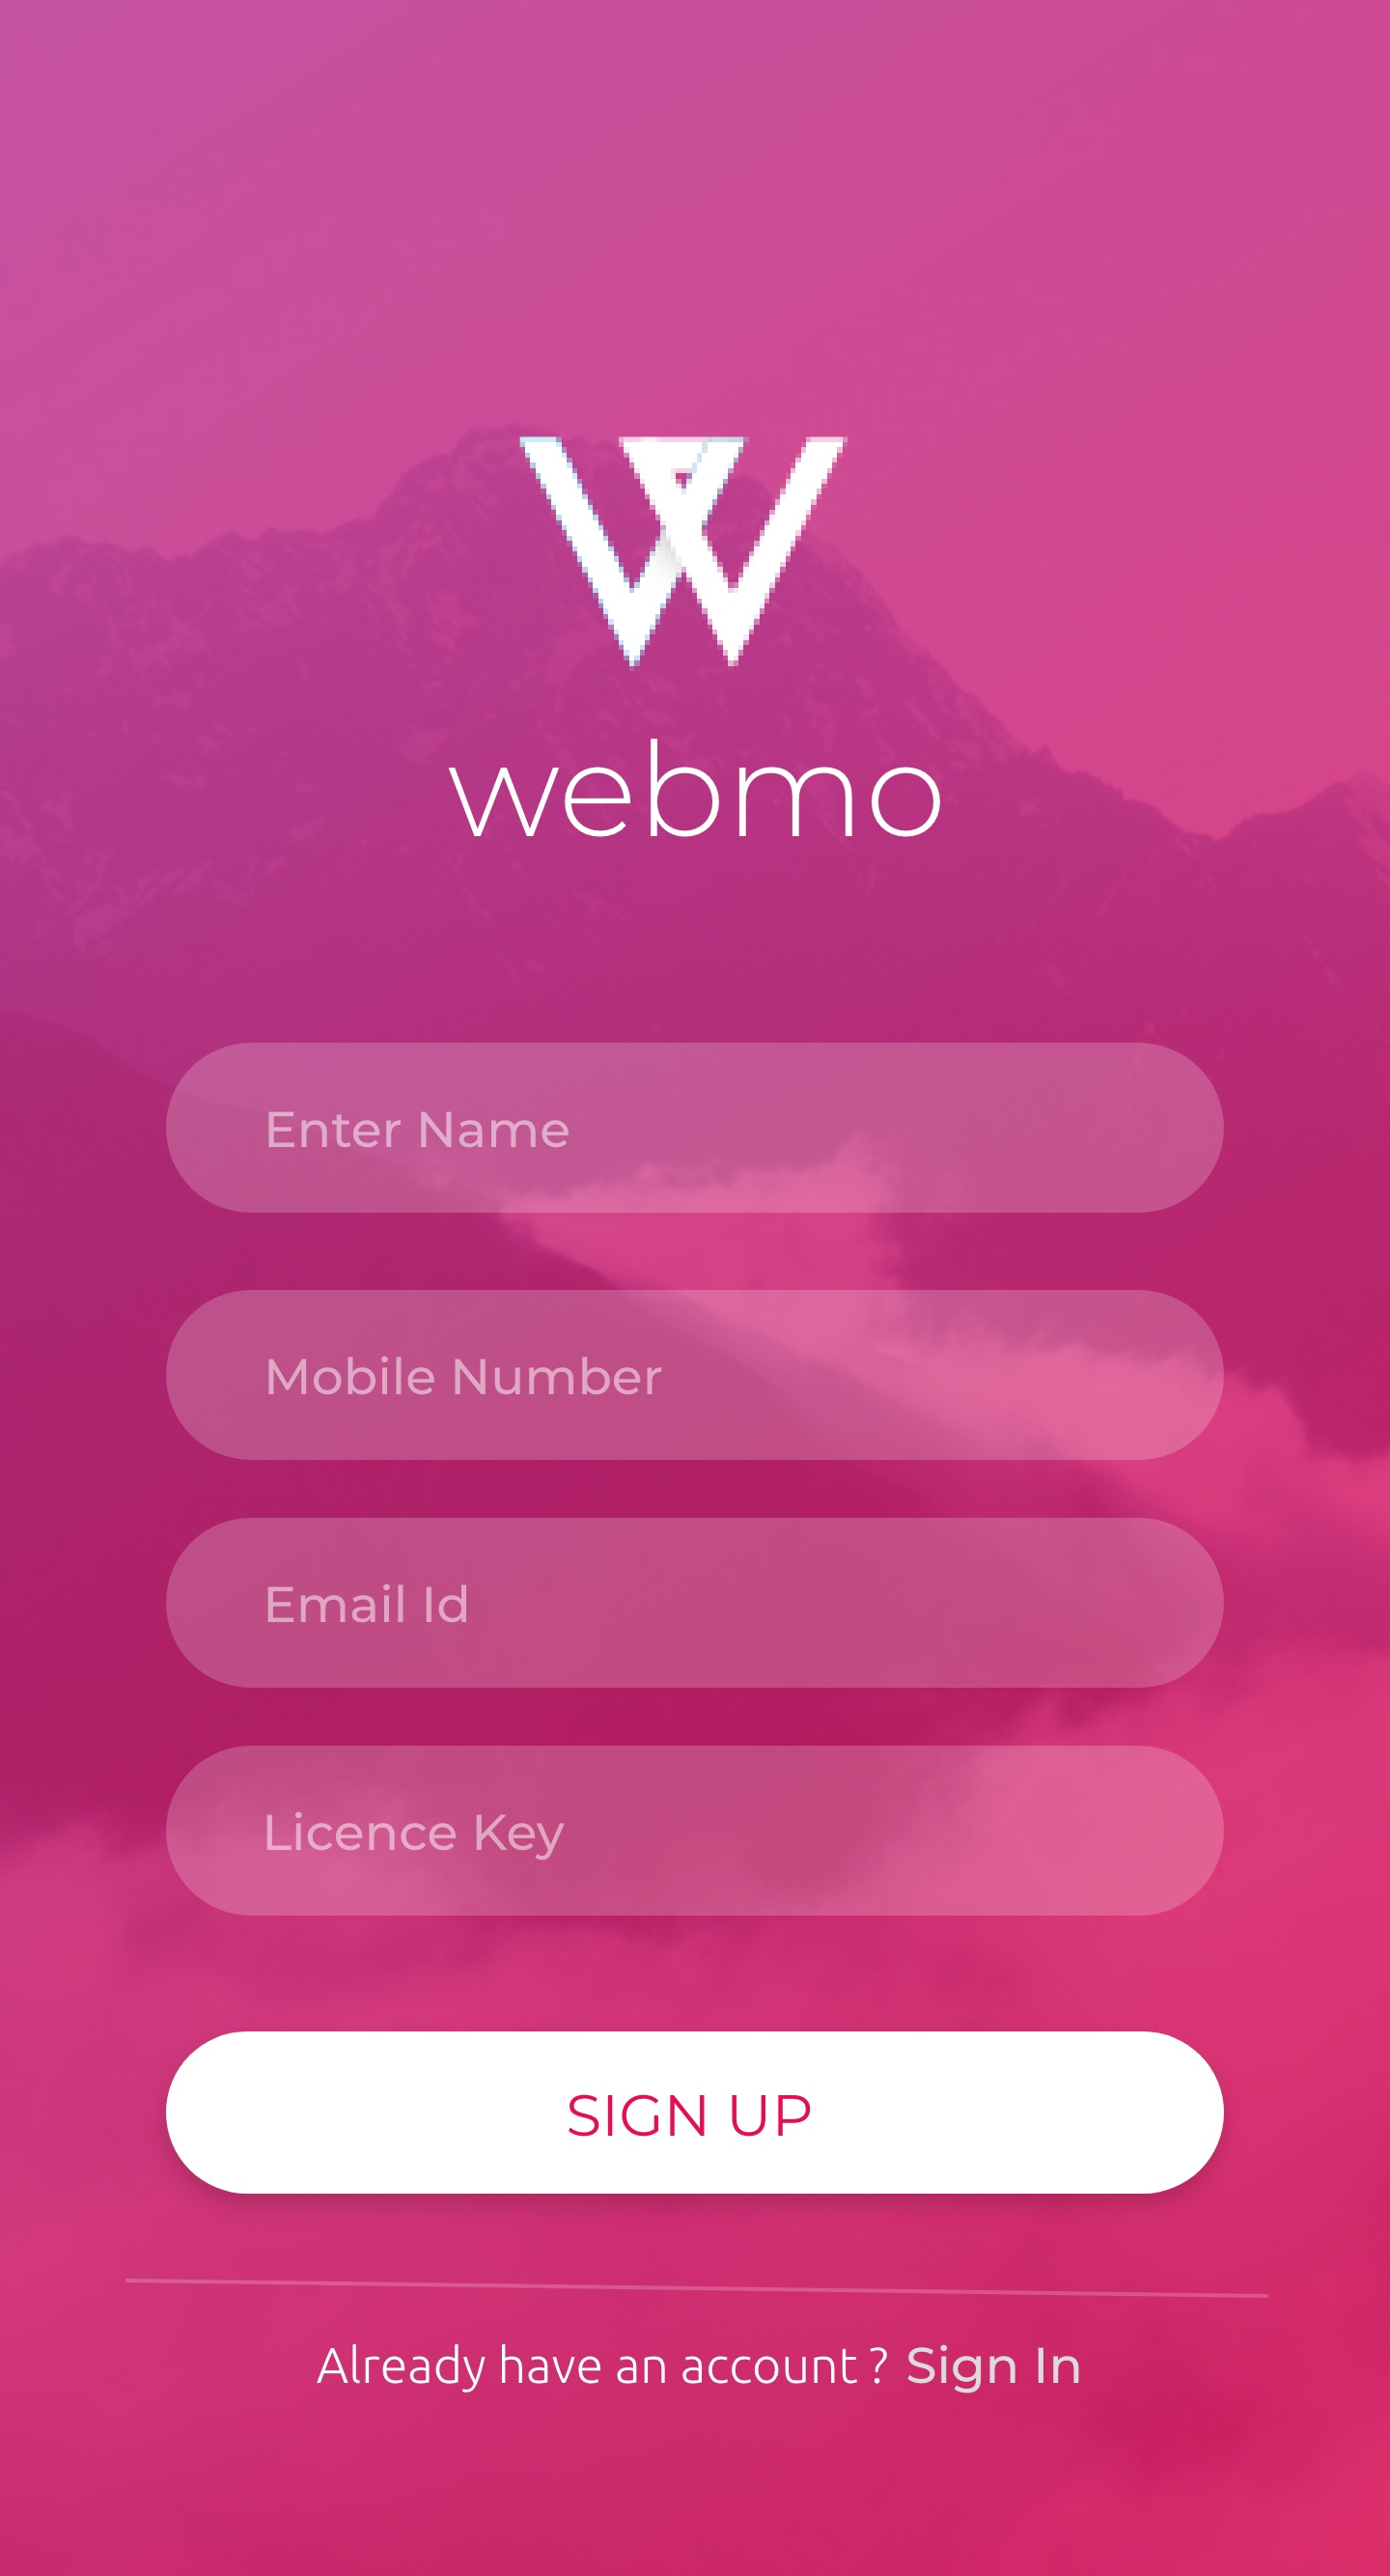BackgroundImage: (2, 2, 1390, 2576)
EditText: (166, 1517, 1226, 1689), (166, 1744, 1226, 1917), (166, 1042, 1226, 1214), (166, 1291, 1226, 1462)
Image: (517, 435, 851, 673)
Text: (448, 738, 942, 839), (317, 2343, 1080, 2395), (269, 1357, 662, 1397), (267, 1814, 565, 1861), (269, 1111, 570, 1149), (267, 1583, 466, 1623)
TextButton: (166, 2030, 1226, 2194)
